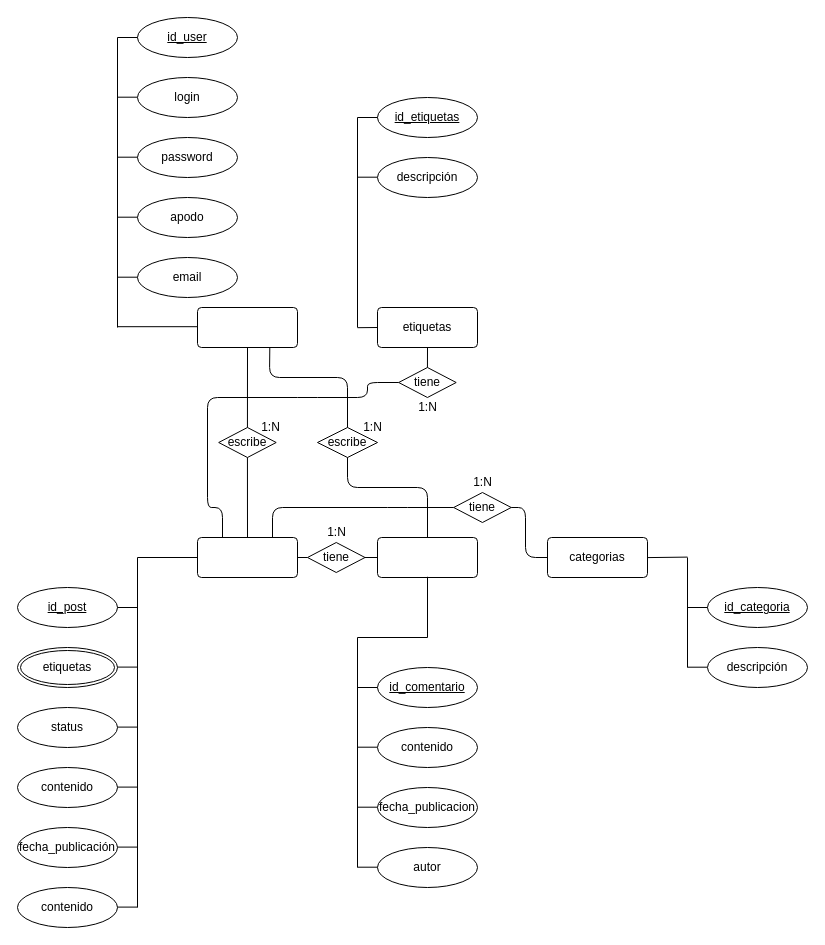
Image size: 825x945. Some labels were removed from this diagram. Each missing label, with the box of its shape:
comentarios: (376, 536, 478, 578)
Posts: (196, 536, 298, 578)
users: (196, 306, 298, 348)
